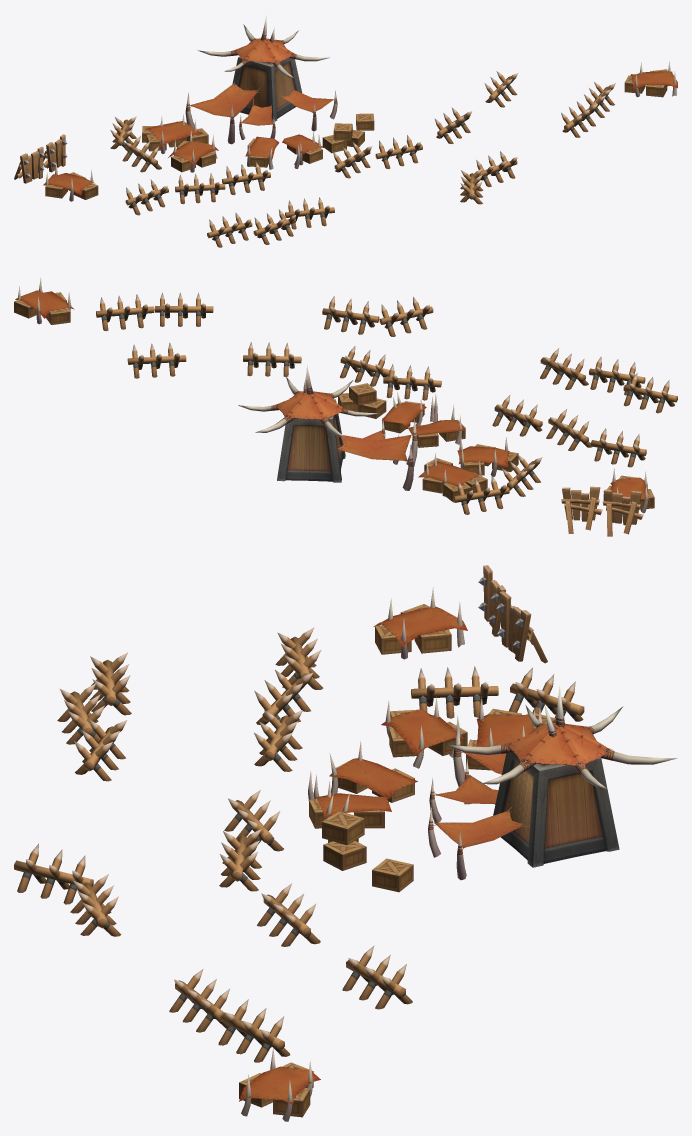
Rendered from area_11_5.fbx.
3 renders of one model, top to bottom at view 1: azimuth 30°, elevation 25°; view 2: azimuth 150°, elevation 25°; view 3: azimuth 270°, elevation 25°, orthographic. The views are drawn at different scales.
Parts seen in each view (by area): view 1: area_11_5; view 2: area_11_5; view 3: area_11_5.
Boxes of the visible parts, x1=… form: area_11_5: x1=14, y1=15, x2=677, y2=247; area_11_5: x1=14, y1=277, x2=677, y2=536; area_11_5: x1=14, y1=565, x2=677, y2=1121.
Bounding box in the file's own units: 72.58 × 11.11 × 40.18.
